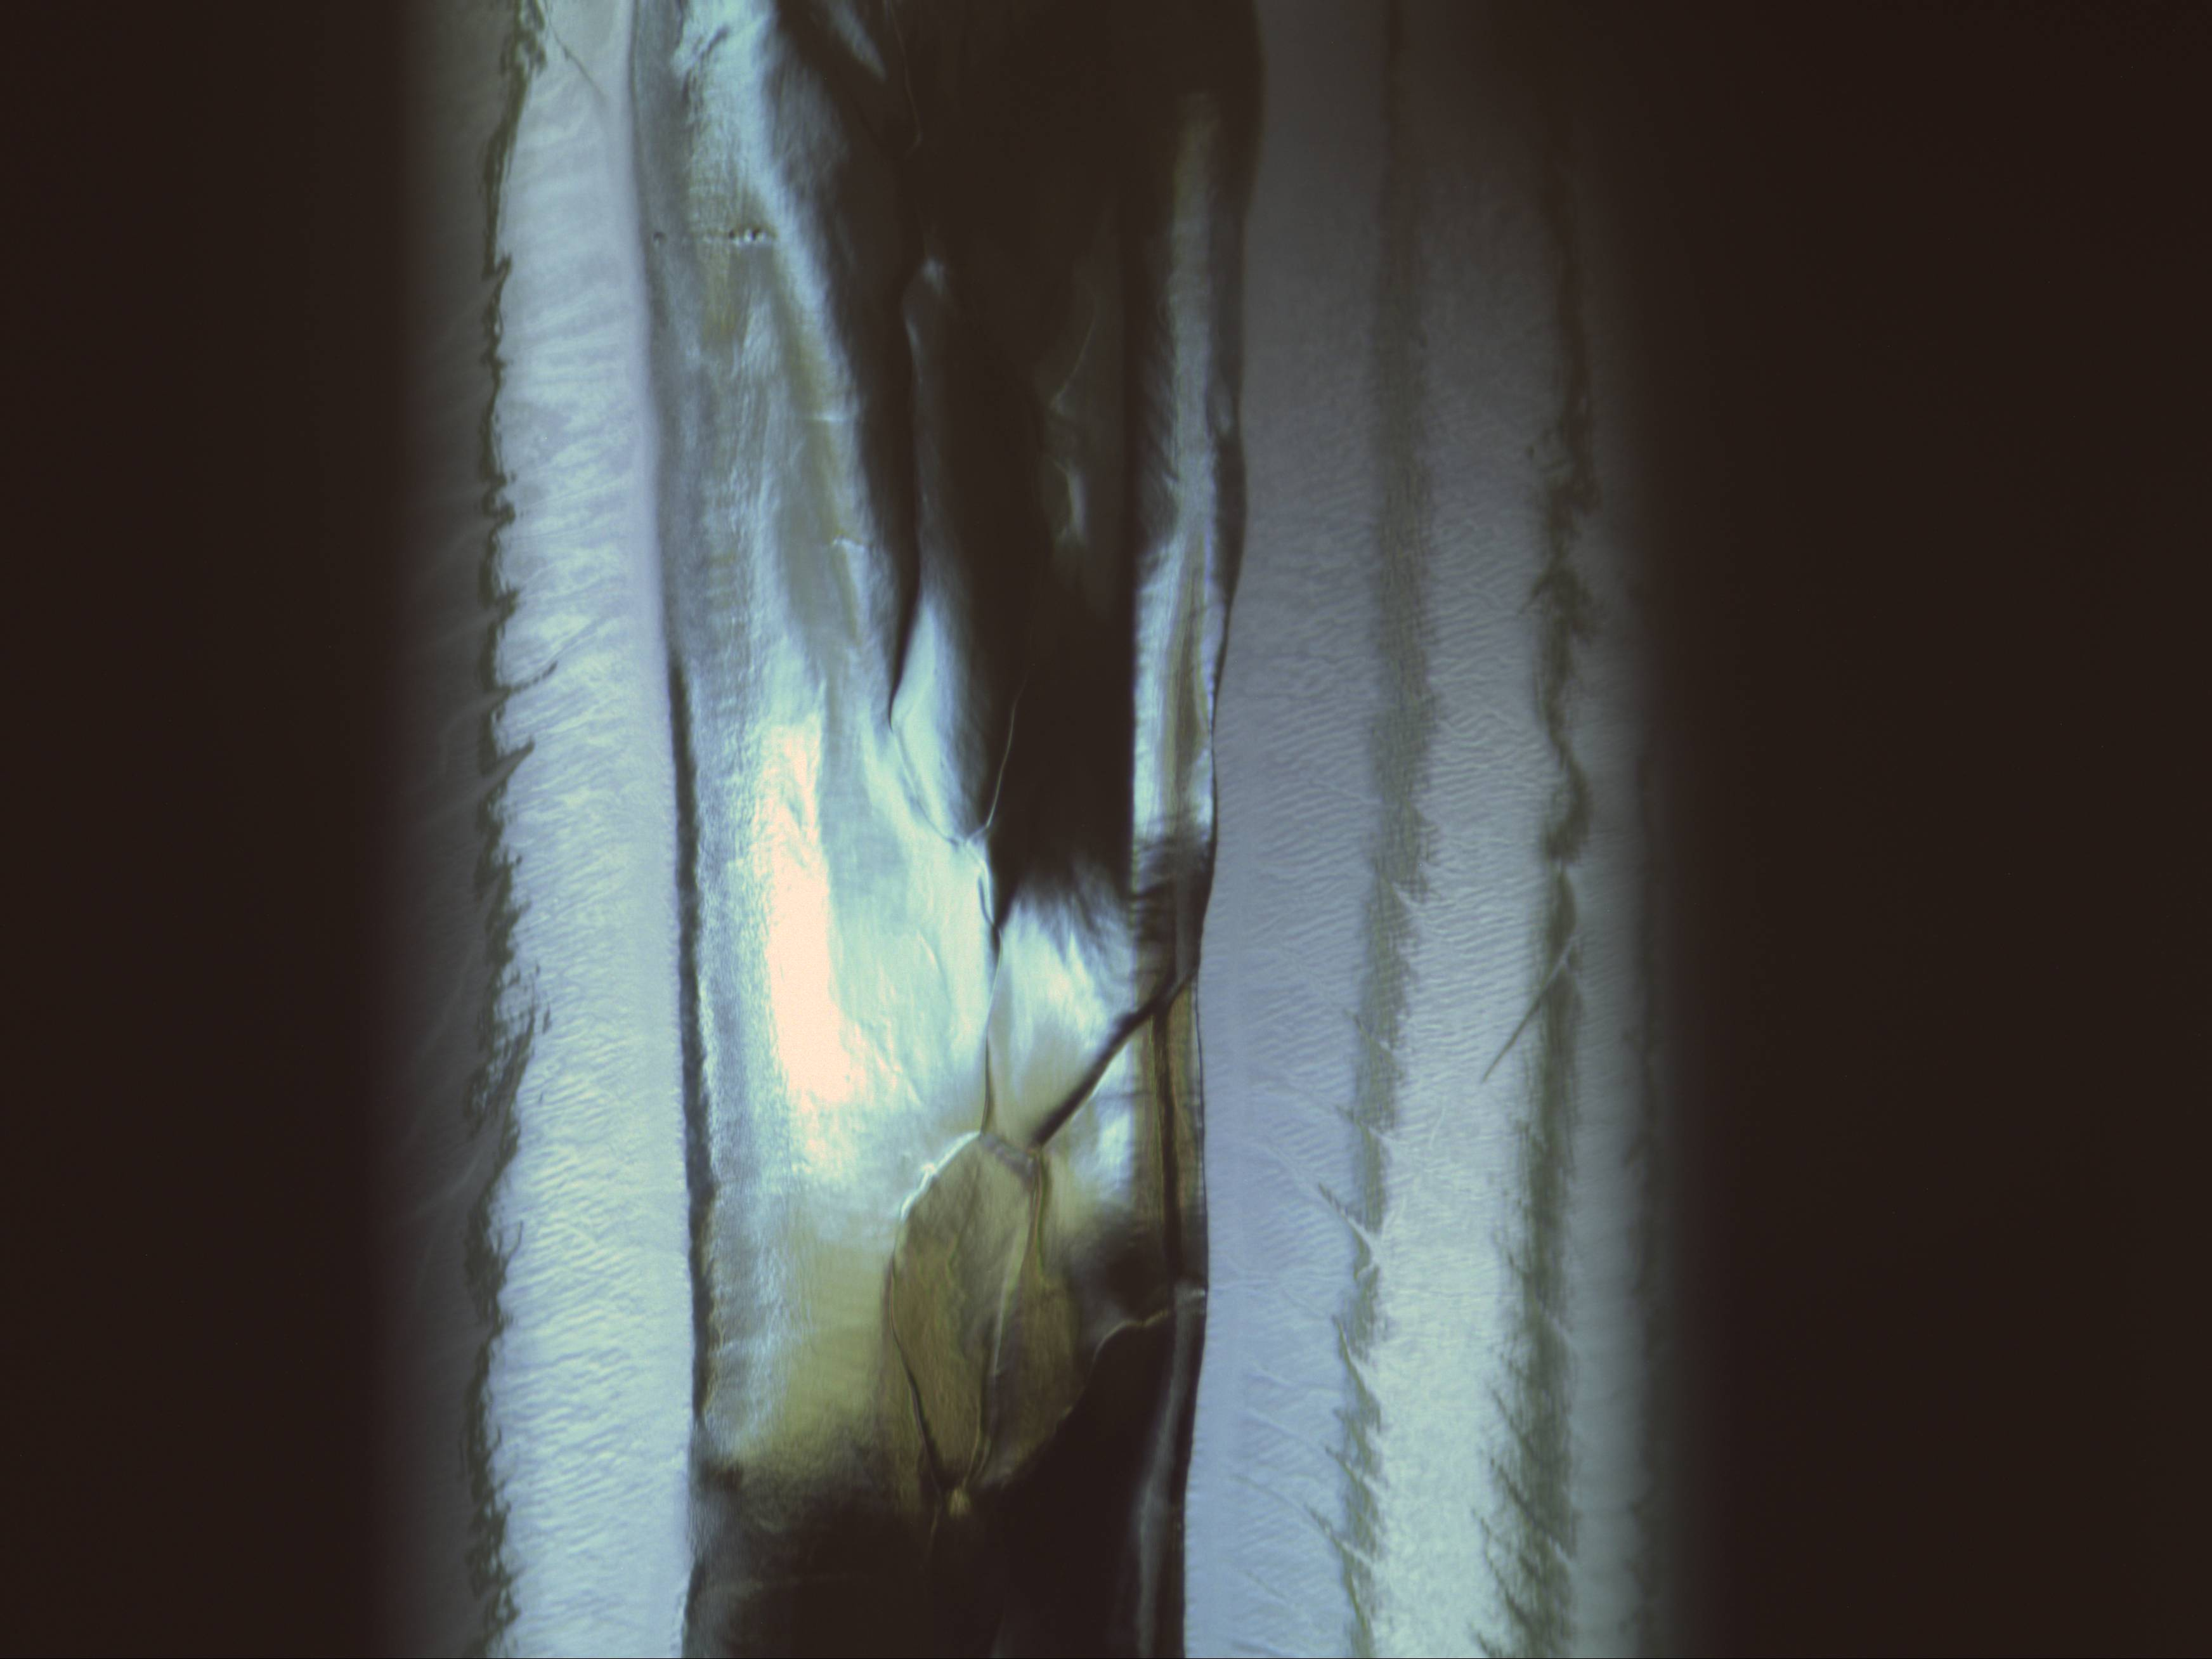defect: (695, 218, 789, 253)
